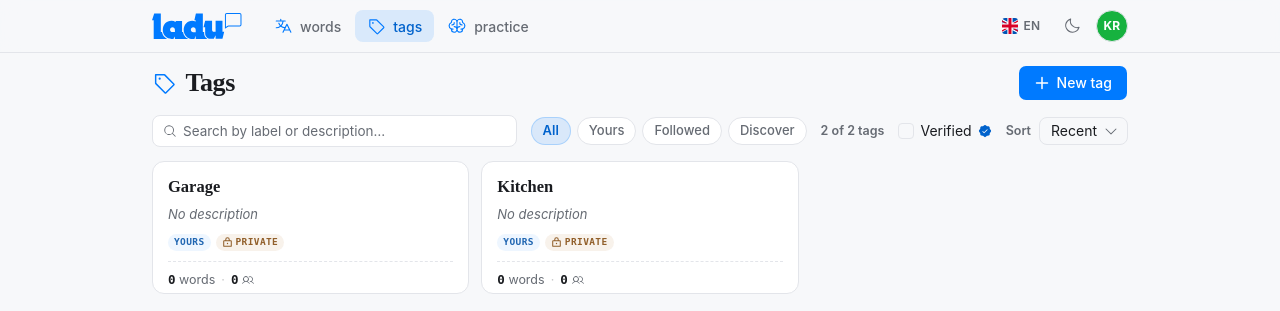
Test: TagsPage — listing and scopes › typing in the search box narrows results after the debounce
Expected: the text "Garage" is shown, [168, 177, 220, 196]
In the field with placeholder "Search by label or description…": (345, 131) [183, 121, 508, 141], type "Kitch"
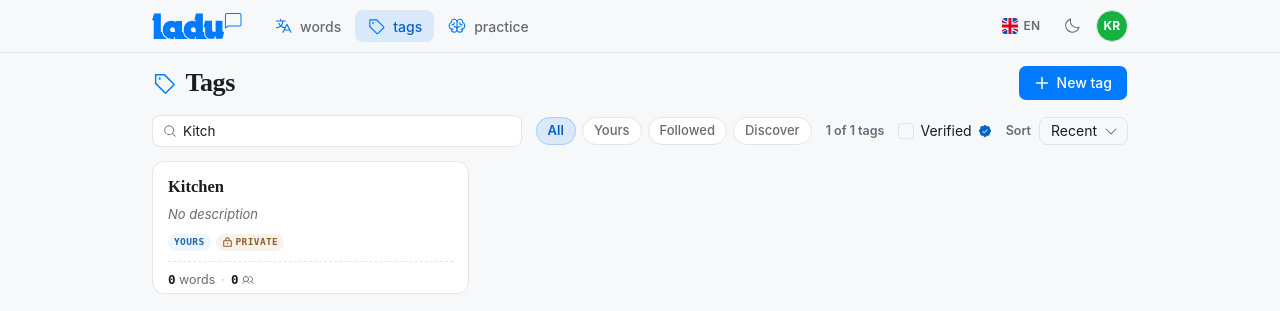
Expected: the text "Kitchen" is shown, [168, 177, 224, 196]
Expected: the link "Garage" is gone
